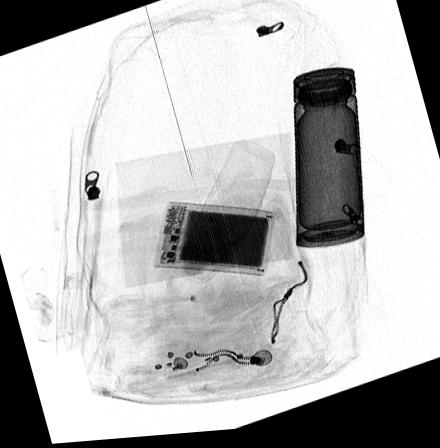Powerbank: (152, 204, 275, 279)
